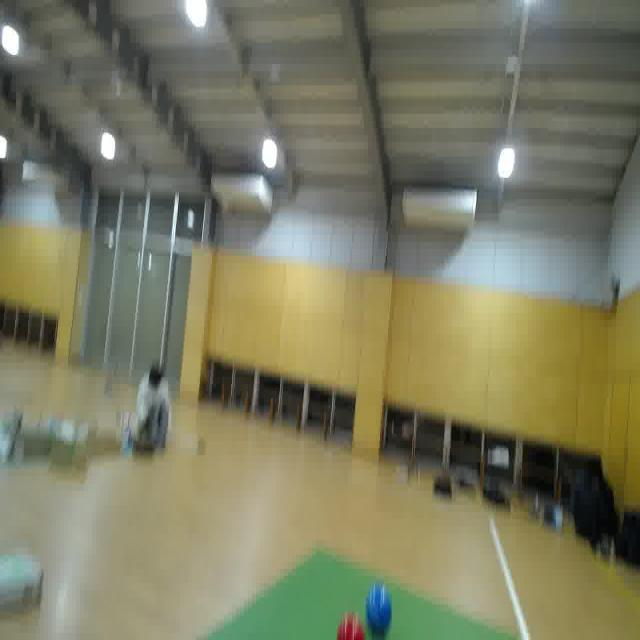blue_ball: (365, 584, 395, 636)
red_ball: (337, 612, 370, 640)
